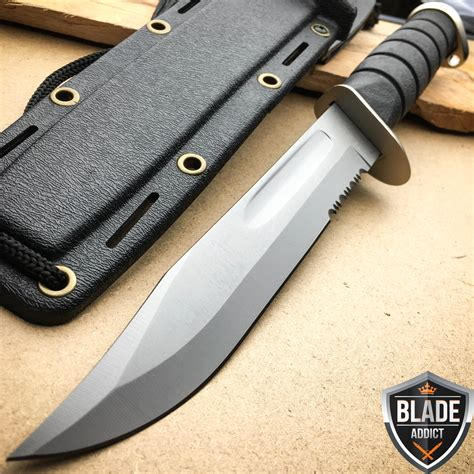knife: (9, 4, 468, 460)
